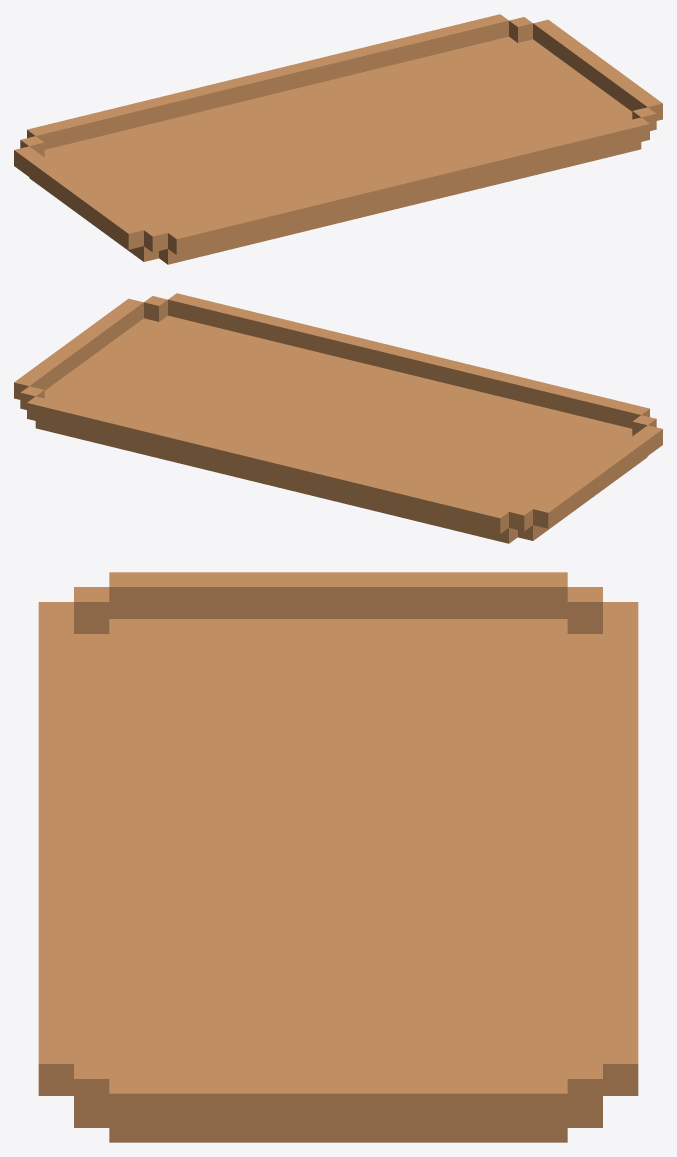
File: youki karage.tenpura ver2.obj
3 views of the same model, one above another, from view 1: azimuth 30°, elevation 25°; view 2: azimuth 150°, elevation 25°; view 3: azimuth 270°, elevation 25° (orthographic). The views are drawn at different scales.
Bounding box in the file's own units: 3.5 × 0.2 × 1.7.
1 material, 1 textured.
